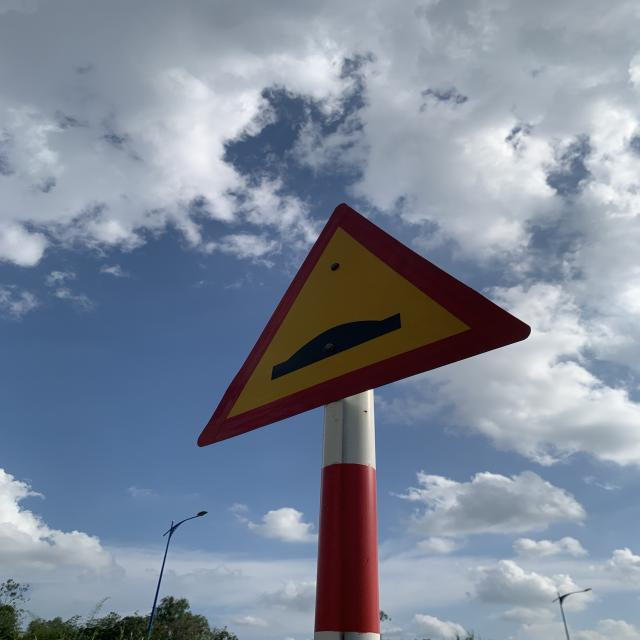Duong_Cong_Ben_Phai: (199, 202, 536, 448)
